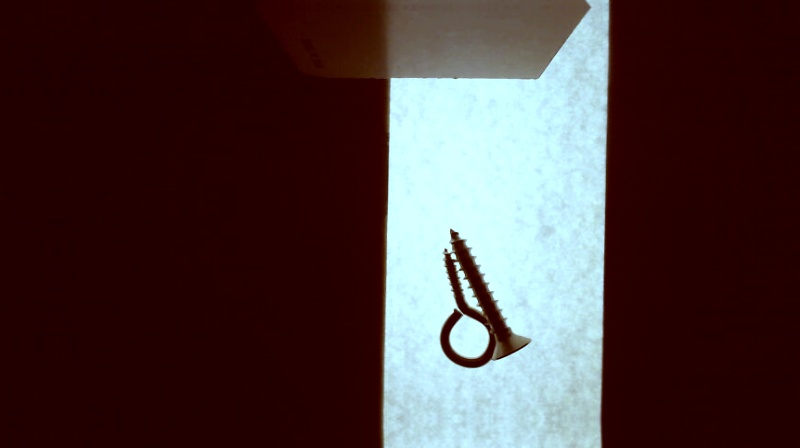O001: (438, 247, 495, 370)
S001: (446, 229, 530, 362)
